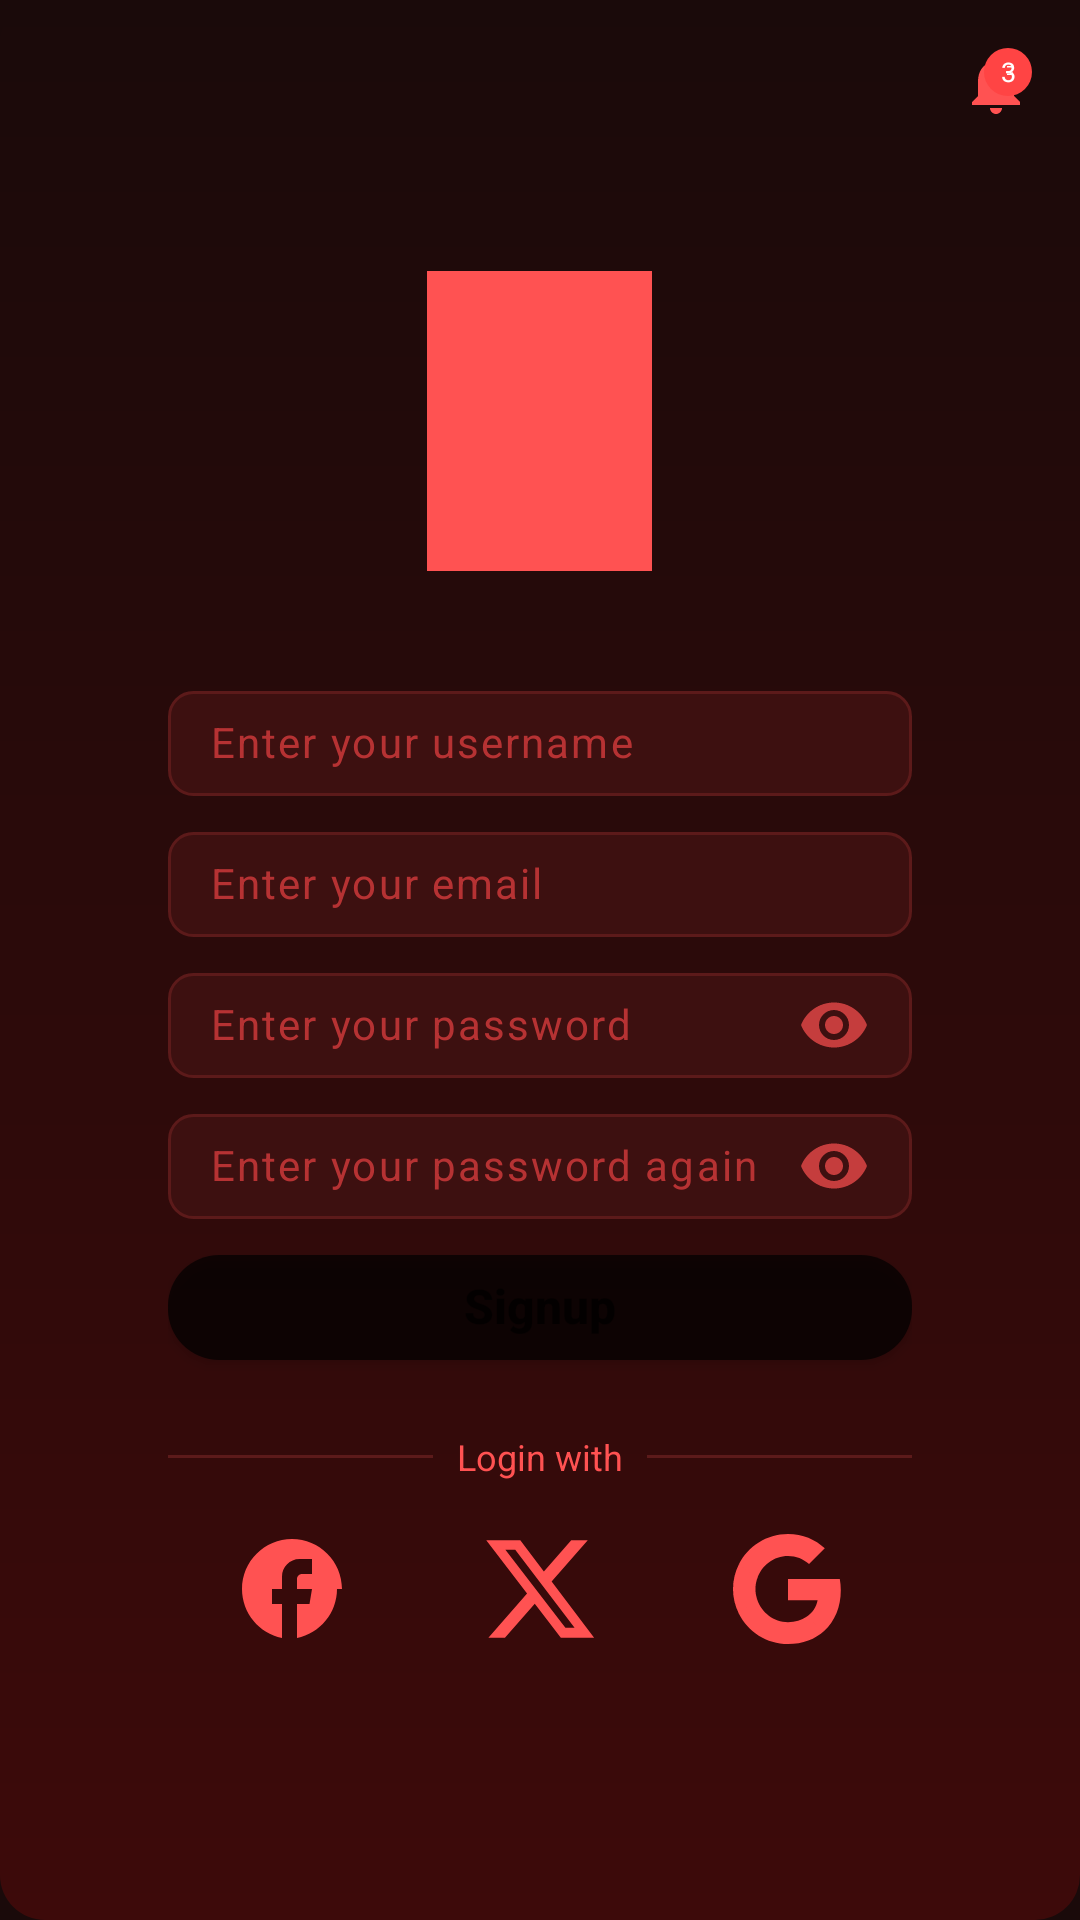

Where to tap for icons on this 1080 × 1920 app screen, as (x,y):
notification: (1002,81)
